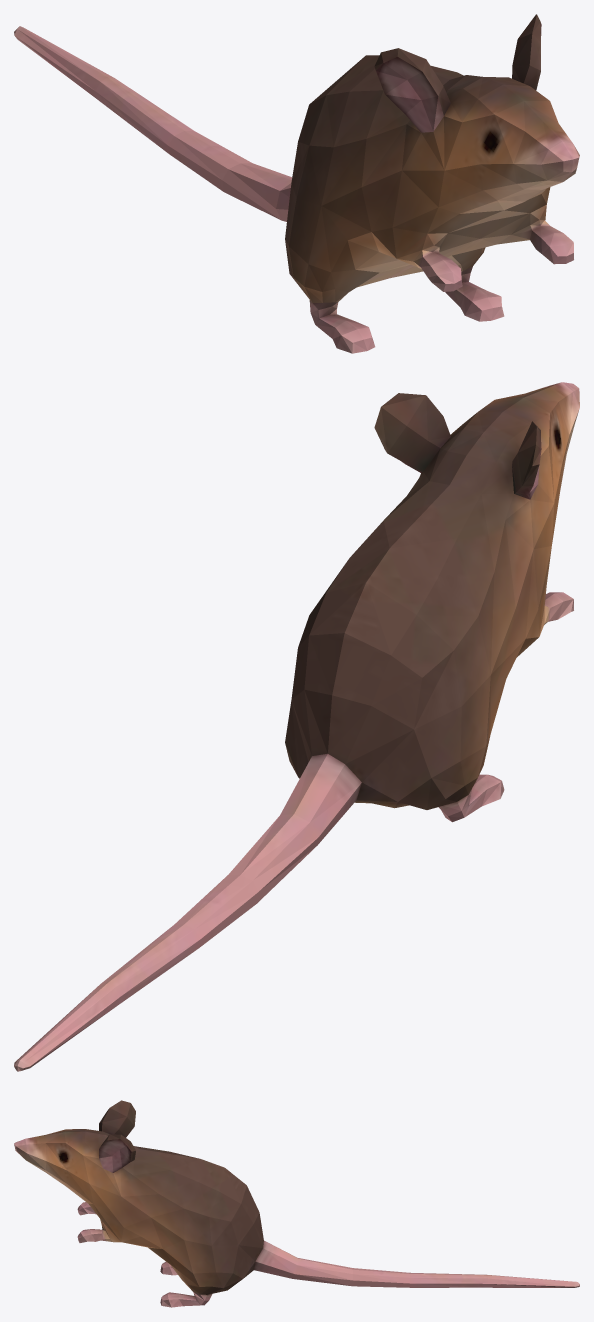
The model's file is v_mouse.glb.
3 renders of one model, top to bottom at view 1: azimuth 30°, elevation 25°; view 2: azimuth 150°, elevation 25°; view 3: azimuth 270°, elevation 25°, orthographic. The views are drawn at different scales.
Visible parts, largest first — view 1: CairoSpinyMouse_Mesh; view 2: CairoSpinyMouse_Mesh; view 3: CairoSpinyMouse_Mesh.
Part boxes in pixels (x1,y1,x2,y2): CairoSpinyMouse_Mesh: (14,14,579,353); CairoSpinyMouse_Mesh: (14,382,579,1071); CairoSpinyMouse_Mesh: (14,1100,579,1307).
Bounding box in the file's own units: 0.0314 × 0.0568 × 0.17.
Materials: 1 (1 with a texture image).
